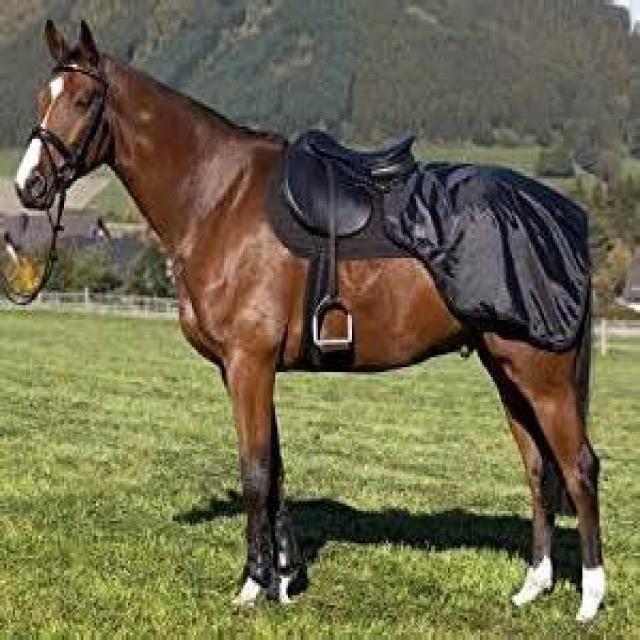horse: (13, 15, 606, 623)
